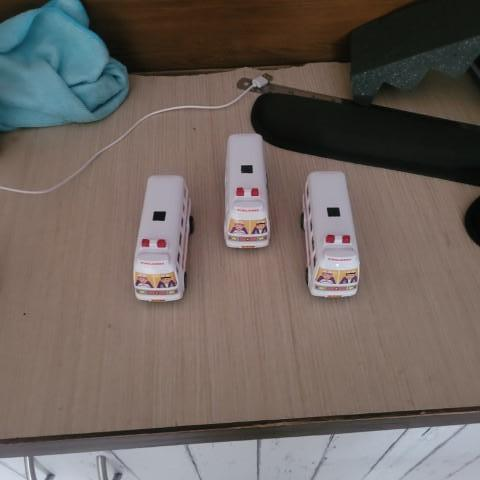ambulance: (294, 166, 363, 301), (131, 171, 197, 304), (220, 128, 274, 253)
